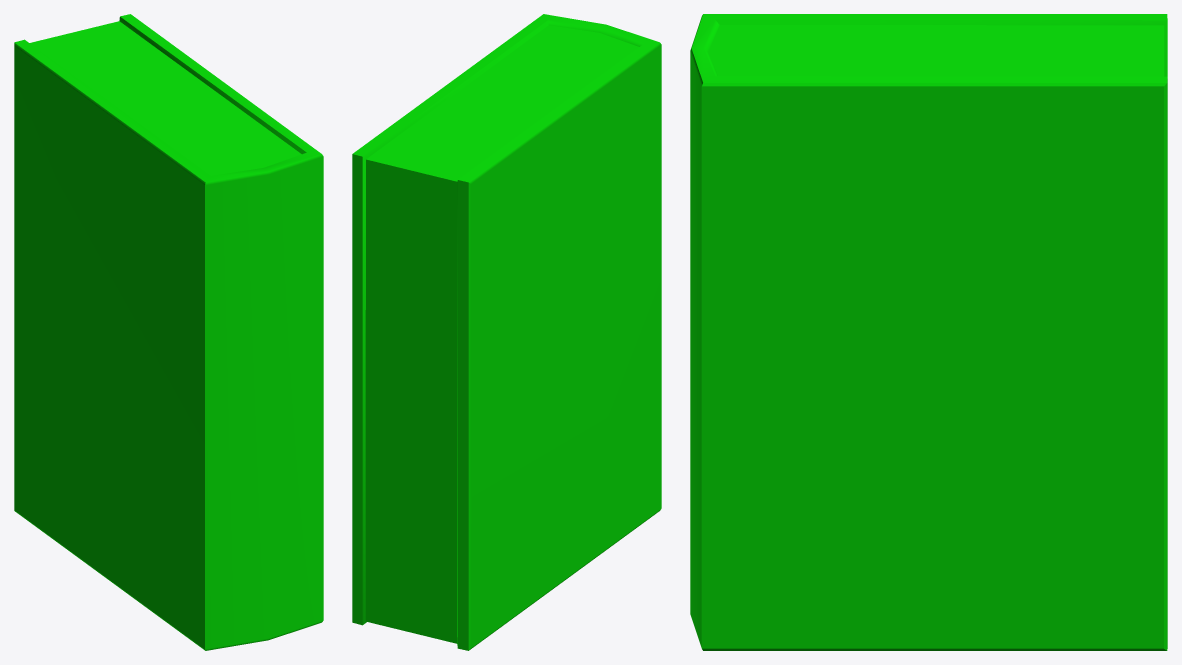
File: LibroBiblia.fbx
3 views of the same model, side by side, from view 1: azimuth 30°, elevation 25°; view 2: azimuth 150°, elevation 25°; view 3: azimuth 270°, elevation 25° (orthographic). The views are drawn at different scales.
Visible parts, largest first — view 1: pCube273; view 2: pCube273; view 3: pCube273.
Boxes of the visible parts, x1,y1,x2,y2 form: pCube273: (14,14,323,650); pCube273: (352,14,661,650); pCube273: (690,14,1167,650).
Size of the model in its own units: 0.0733 by 0.2765 by 0.2104.
